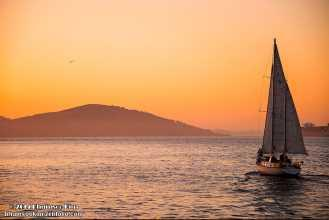fanchuan: (252, 34, 311, 176)
